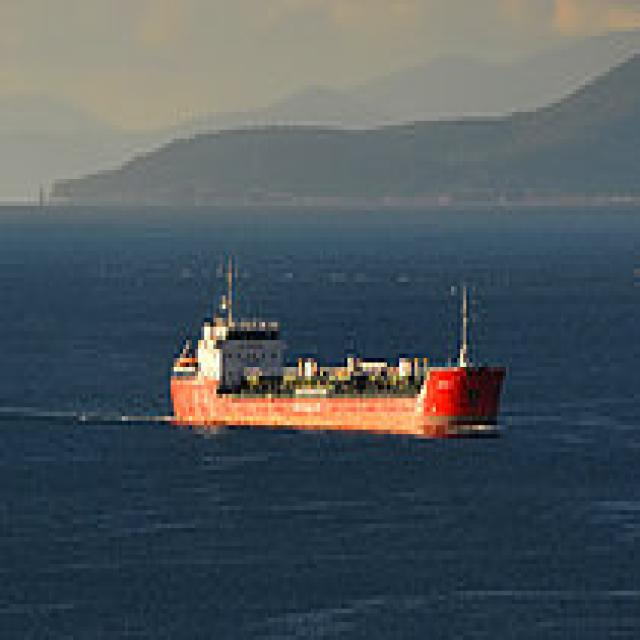Tanker: (165, 250, 500, 430)
